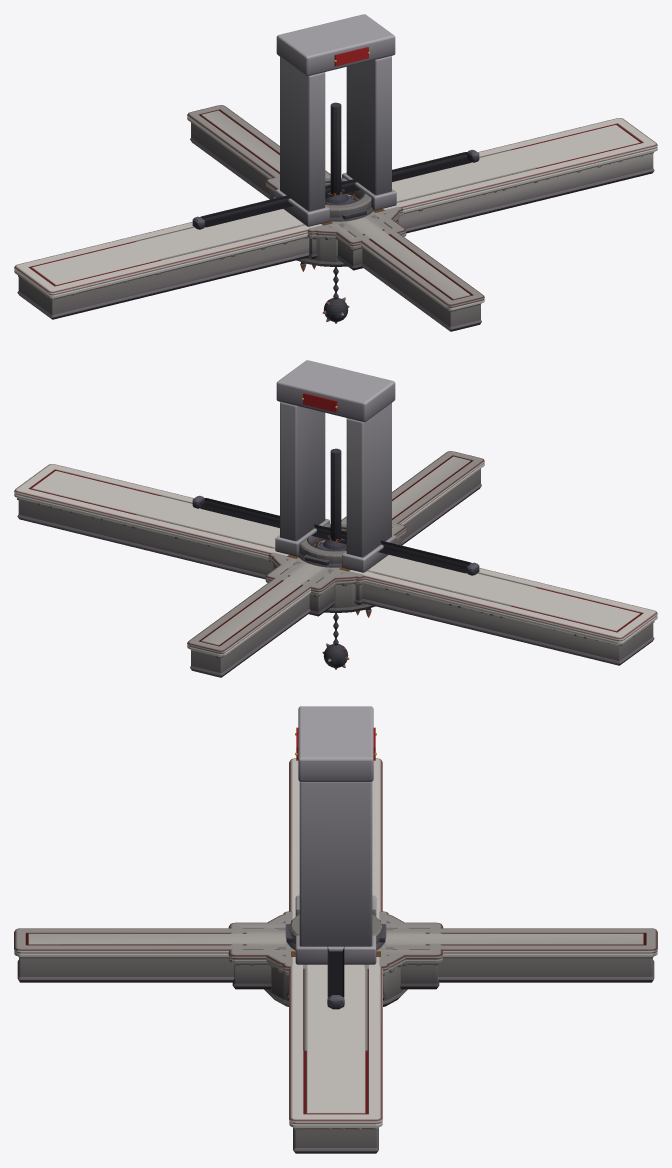
The model's file is fortress-3-DXGJKx3X.glb.
3 views of the same model, one above another, from view 1: azimuth 30°, elevation 25°; view 2: azimuth 150°, elevation 25°; view 3: azimuth 270°, elevation 25° (orthographic). The views are drawn at different scales.
Visible parts, largest first — view 1: block_64x2x7#0, pressFrame_5x6x4x7_thump#0, block_4x2x48_grate#0, mount_14.4#0, block_6x2x16#0, disc_12x1.5#0, press_8x6x1.5#0, geyserVent_5#0, block_40x2x5#0, blade_3x12x1#0; view 2: block_64x2x7#0, pressFrame_5x6x4x7_thump#0, block_4x2x48_grate#0, mount_14.4#0, block_6x2x16#0, disc_12x1.5#0, press_8x6x1.5#0, geyserVent_5#0, block_40x2x5#0, blade_3x12x1#0; view 3: block_4x2x48_grate#0, block_64x2x7#0, pressFrame_5x6x4x7_thump#0, block_6x2x16#0, disc_12x1.5#0, mount_14.4#0, block_40x2x5#0.
Boxes of the visible parts, <box> form: block_64x2x7#0: <box>14,118,657,319</box>; pressFrame_5x6x4x7_thump#0: <box>275,14,396,226</box>; block_4x2x48_grate#0: <box>187,105,484,331</box>; mount_14.4#0: <box>192,149,479,229</box>; block_6x2x16#0: <box>265,170,406,270</box>; disc_12x1.5#0: <box>272,196,399,266</box>; press_8x6x1.5#0: <box>300,102,341,271</box>; geyserVent_5#0: <box>325,178,373,221</box>; block_40x2x5#0: <box>135,150,537,260</box>; blade_3x12x1#0: <box>322,267,349,323</box>; block_64x2x7#0: <box>14,464,657,665</box>; pressFrame_5x6x4x7_thump#0: <box>275,360,396,572</box>; block_4x2x48_grate#0: <box>187,451,484,677</box>; mount_14.4#0: <box>192,495,479,575</box>; block_6x2x16#0: <box>265,516,406,616</box>; disc_12x1.5#0: <box>272,542,399,612</box>; press_8x6x1.5#0: <box>330,448,371,617</box>; geyserVent_5#0: <box>298,524,346,567</box>; block_40x2x5#0: <box>134,496,536,606</box>; blade_3x12x1#0: <box>322,613,349,669</box>; block_4x2x48_grate#0: <box>14,928,657,982</box>; block_64x2x7#0: <box>289,758,382,1153</box>; pressFrame_5x6x4x7_thump#0: <box>295,706,376,964</box>; block_6x2x16#0: <box>228,922,443,989</box>; disc_12x1.5#0: <box>262,912,409,1006</box>; mount_14.4#0: <box>327,946,344,1009</box>; block_40x2x5#0: <box>303,968,368,1051</box>.
Size of the model in its own units: 64 by 28.98 by 48.
